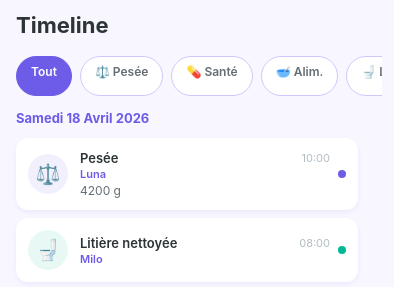
Test: le filtre Pesée masque Litière nettoyée
The width and height of the screenshot is (394, 287).
Check: the text "Pesée" is shown, box x1=80 y1=150 x2=118 y2=166
Click the text "⚖️ Pesée".
click(122, 72)  # box x1=95 y1=64 x2=148 y2=79
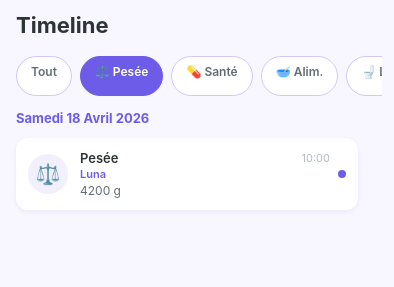
Check: the text "Litière nettoyée" is gone
